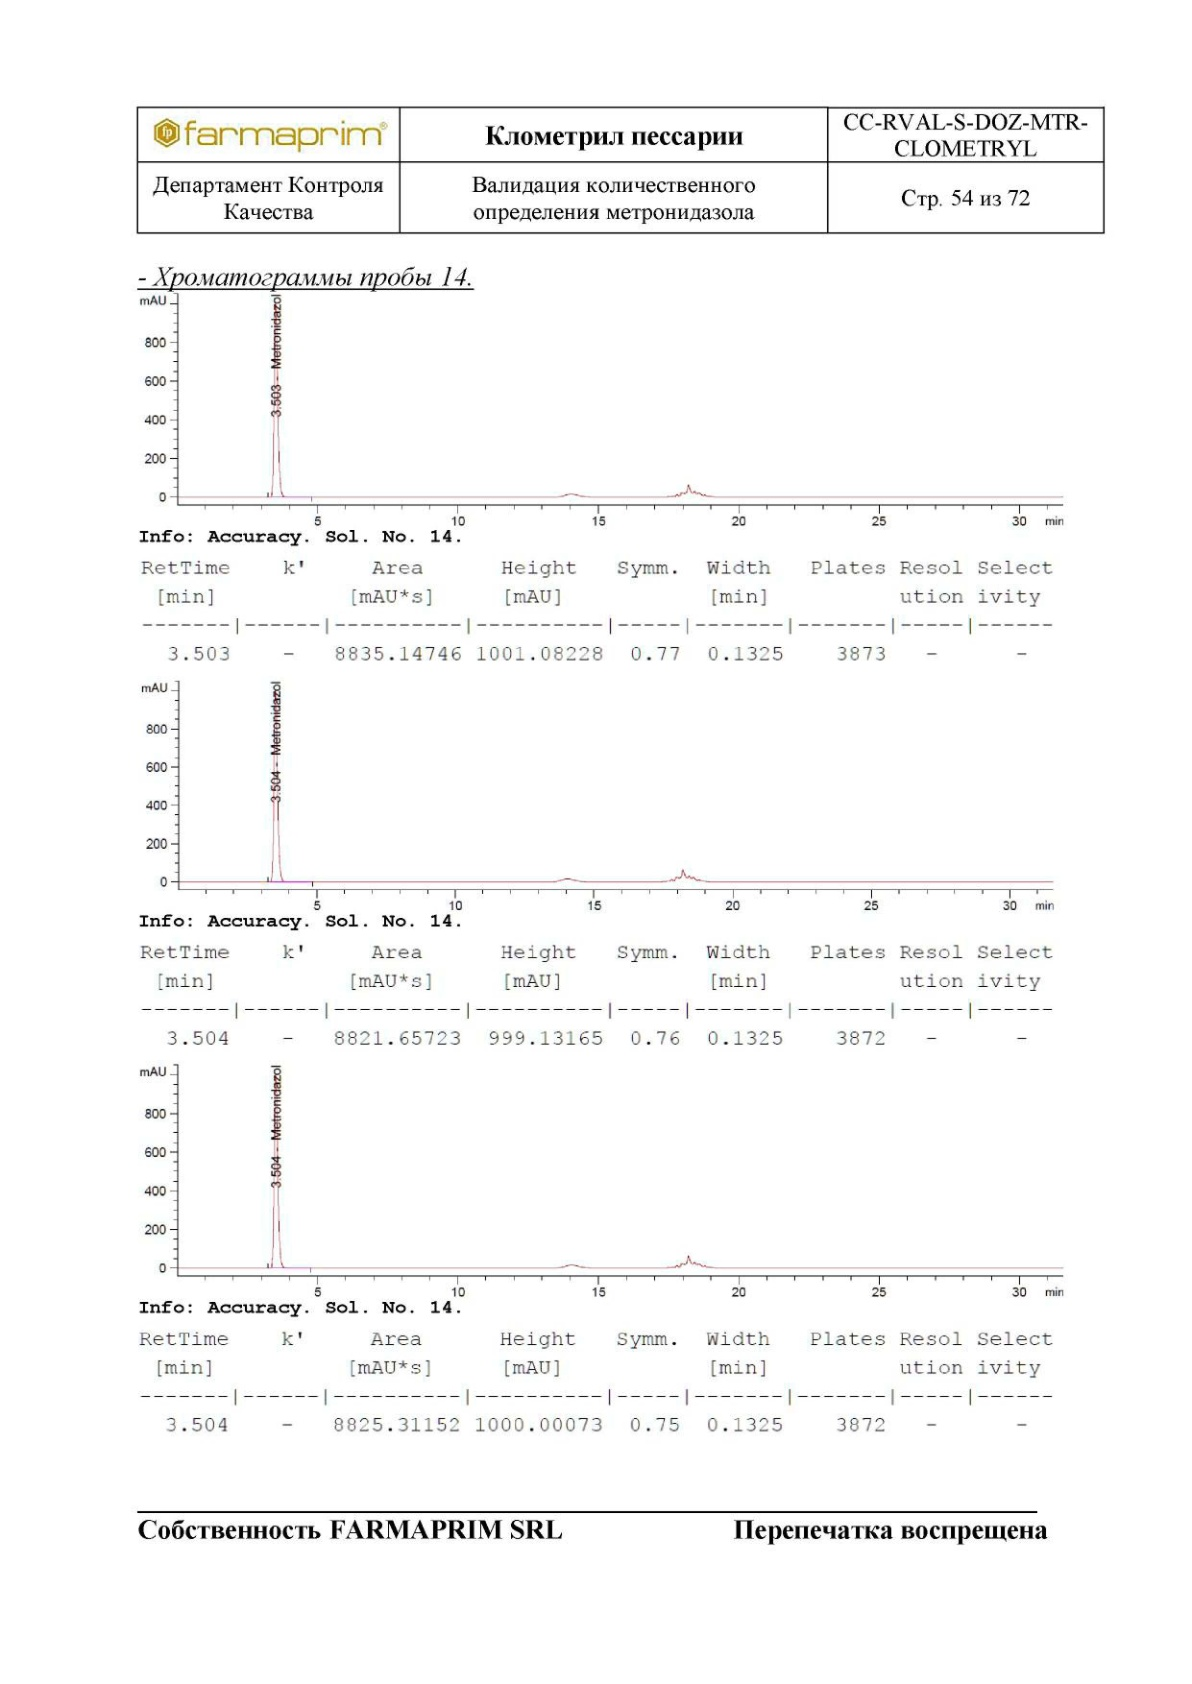full_lined: (135, 104, 1107, 236)
partial_lined: (137, 939, 1058, 1053), (139, 556, 1059, 671), (137, 1328, 1058, 1436)
